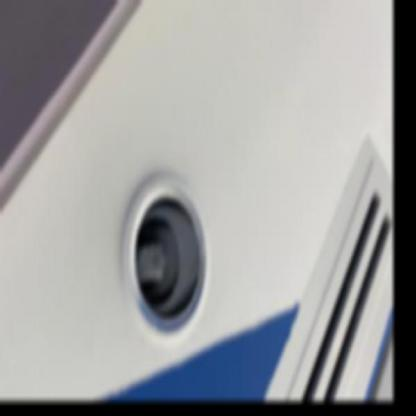light_off: (113, 156, 219, 354)
